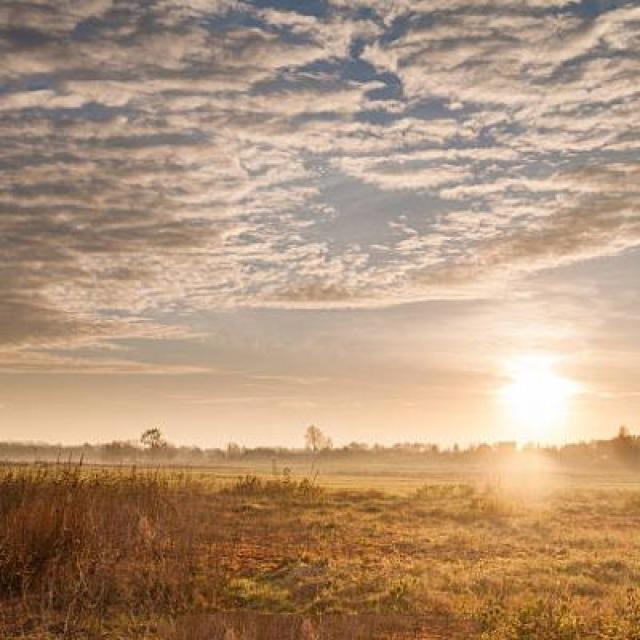Cc: (8, 1, 640, 374)
